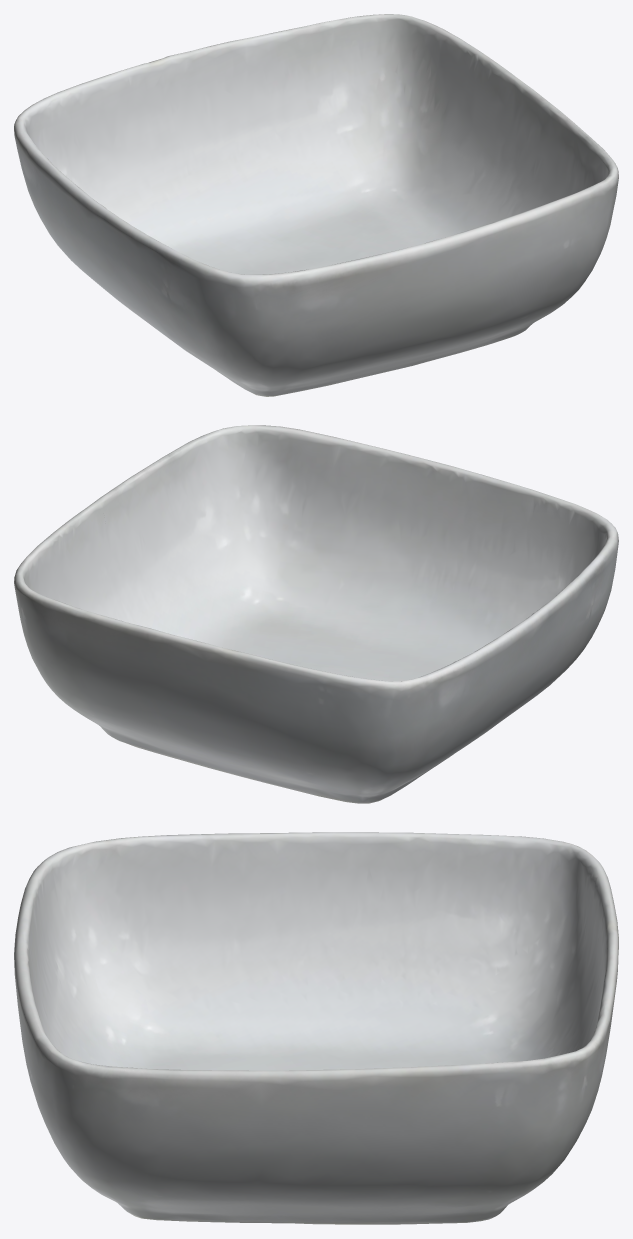
File: Neat_Solutions_Character_Bib_2_pack.glb
The picture shows the model from 3 angles, top to bottom: view 1: azimuth 30°, elevation 25°; view 2: azimuth 150°, elevation 25°; view 3: azimuth 270°, elevation 25°; orthographic projection. The views are drawn at different scales.
Visible parts, largest first — view 1: Neat_Solutions_Character_Bib_2_pack; view 2: Neat_Solutions_Character_Bib_2_pack; view 3: Neat_Solutions_Character_Bib_2_pack.
Boxes of the visible parts, left/top/right/bottom form: Neat_Solutions_Character_Bib_2_pack: left=14, top=14, right=618, bottom=396; Neat_Solutions_Character_Bib_2_pack: left=14, top=425, right=618, bottom=803; Neat_Solutions_Character_Bib_2_pack: left=14, top=832, right=618, bottom=1224.
Size of the model in its own units: 0.2052 by 0.0766 by 0.2049.
1 material, 1 textured.
